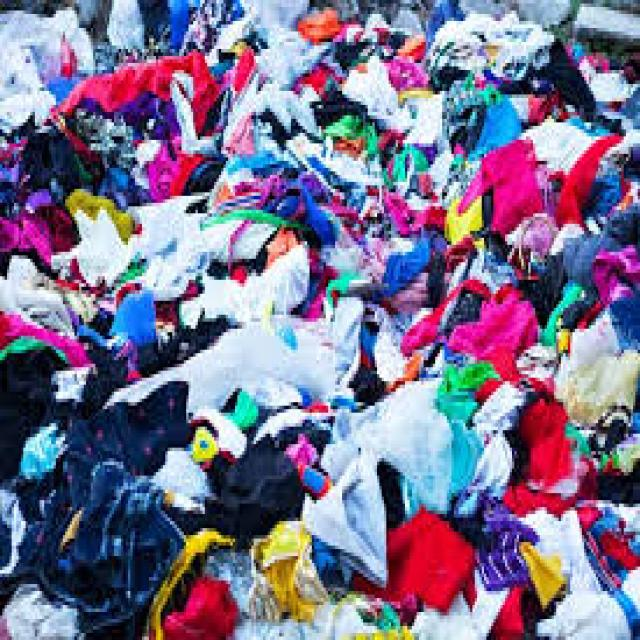Clothes -Biodegradable-: (1, 0, 640, 640)
